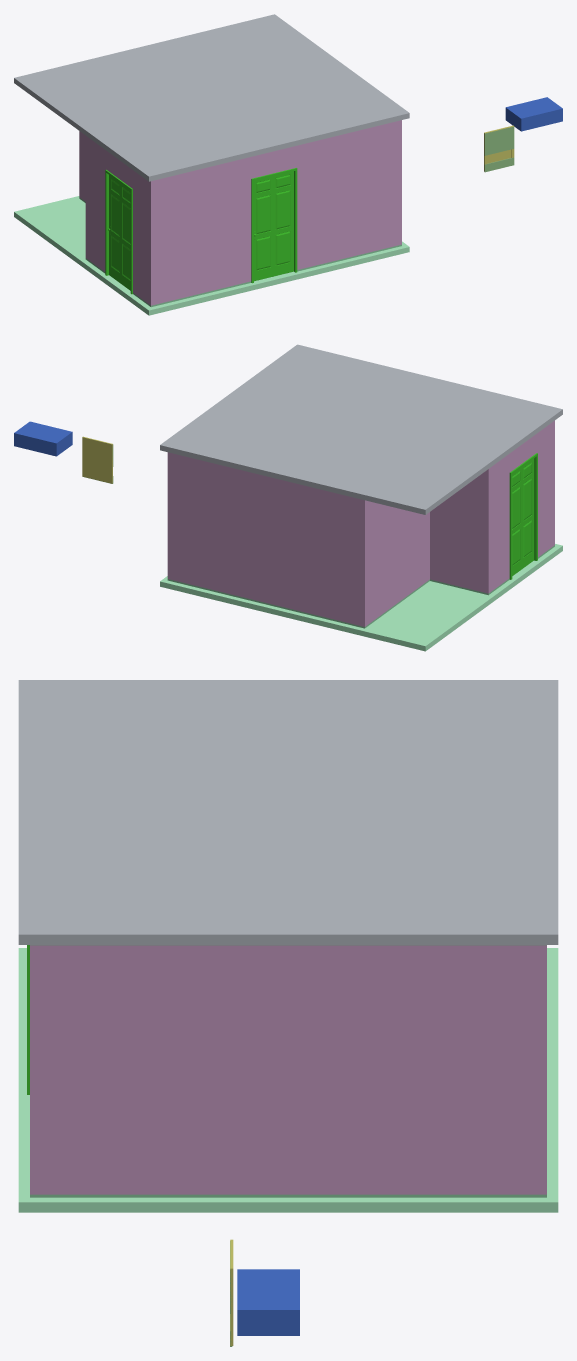
The model's file is FloorPlan5_physics.fbx.
3 views of the same model, one above another, from view 1: azimuth 30°, elevation 25°; view 2: azimuth 150°, elevation 25°; view 3: azimuth 270°, elevation 25° (orthographic). The views are drawn at different scales.
Visible parts, largest first — view 1: Ceiling, StandardWallSize, Floor, StandardDoor1, StandardDoor1 (2), StandardSinkSize1, StandardDoorFrame1, StandardDoorFrame1 (2), DrawerBase2; view 2: StandardWallSize, Ceiling, Floor, StandardDoor1 (2), StandardSinkSize1, CabinetDoorBase3, StandardDoorFrame1 (2); view 3: Ceiling, StandardWallSize, Floor, StandardSinkSize1.
Boxes of the visible parts, box(x1,y1,x2,y2) form: Ceiling: box(14, 14, 409, 181); StandardWallSize: box(79, 120, 401, 307); Floor: box(14, 196, 409, 315); StandardDoor1: box(254, 171, 293, 281); StandardDoor1 (2): box(109, 175, 130, 290); StandardSinkSize1: box(505, 97, 562, 131); StandardDoorFrame1: box(251, 168, 297, 283); StandardDoorFrame1 (2): box(105, 169, 132, 294); DrawerBase2: box(484, 133, 514, 155); StandardWallSize: box(167, 420, 554, 628); Ceiling: box(160, 344, 562, 514); Floor: box(160, 544, 562, 651); StandardDoor1 (2): box(512, 458, 533, 575); StandardSinkSize1: box(14, 421, 72, 456); CabinetDoorBase3: box(82, 437, 112, 482); StandardDoorFrame1 (2): box(509, 453, 537, 579); Ceiling: box(18, 680, 558, 944); StandardWallSize: box(30, 945, 546, 1197); Floor: box(18, 948, 558, 1212); StandardSinkSize1: box(237, 1269, 299, 1335).
Size of the model in its own units: 953 by 270 by 475.
